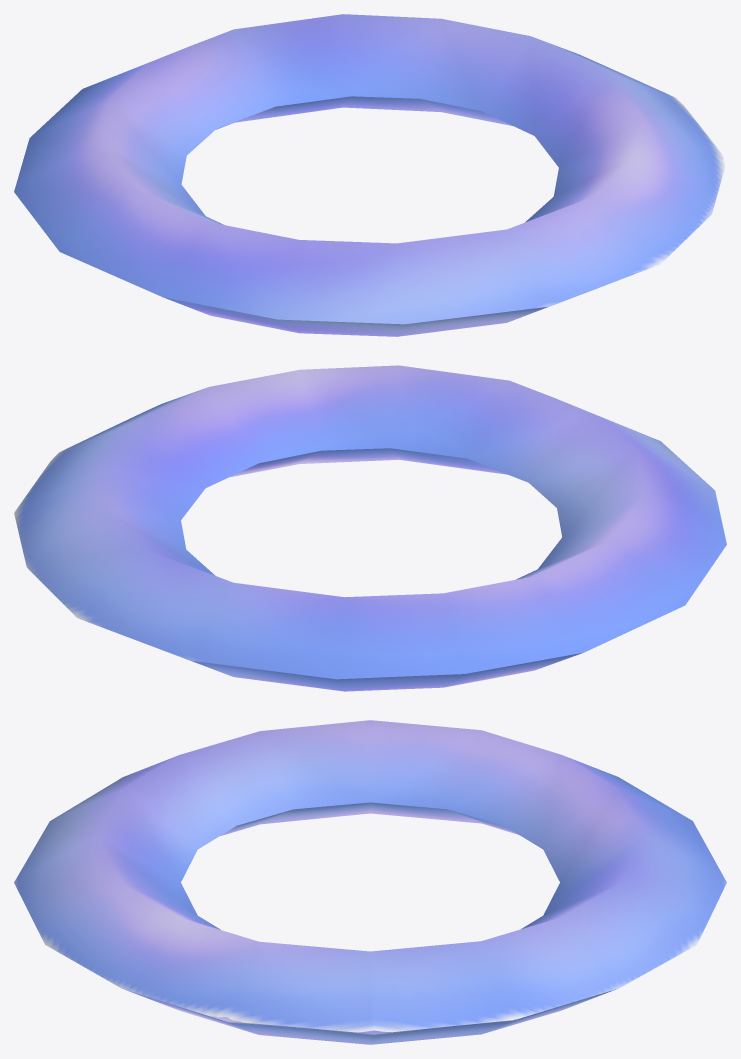
Rendered from giftgoods007.fbx.
The picture shows the model from 3 angles, top to bottom: view 1: azimuth 30°, elevation 25°; view 2: azimuth 150°, elevation 25°; view 3: azimuth 270°, elevation 25°; orthographic projection.
Parts seen in each view (by area): view 1: giftgoods007; view 2: giftgoods007; view 3: giftgoods007.
Boxes of the visible parts, <box> form: giftgoods007: <box>14,14,724,336</box>; giftgoods007: <box>14,365,726,691</box>; giftgoods007: <box>14,720,726,1044</box>.
Size of the model in its own units: 0.9779 by 0.1405 by 0.9729.
